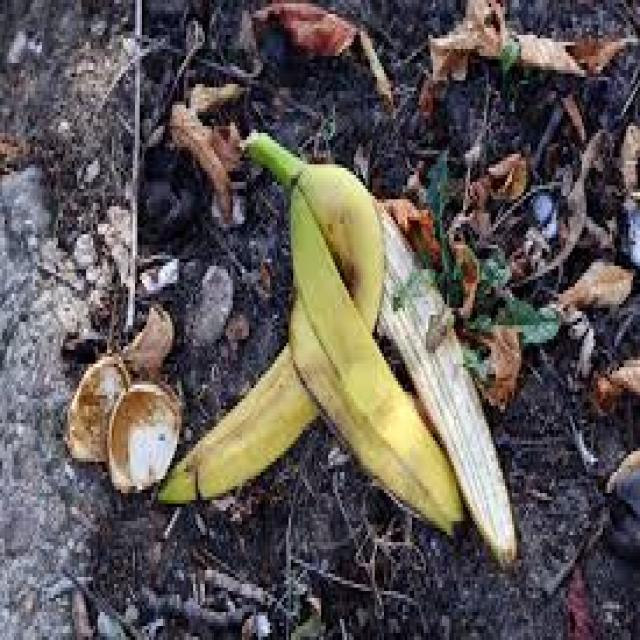food waste: (120, 123, 536, 539)
